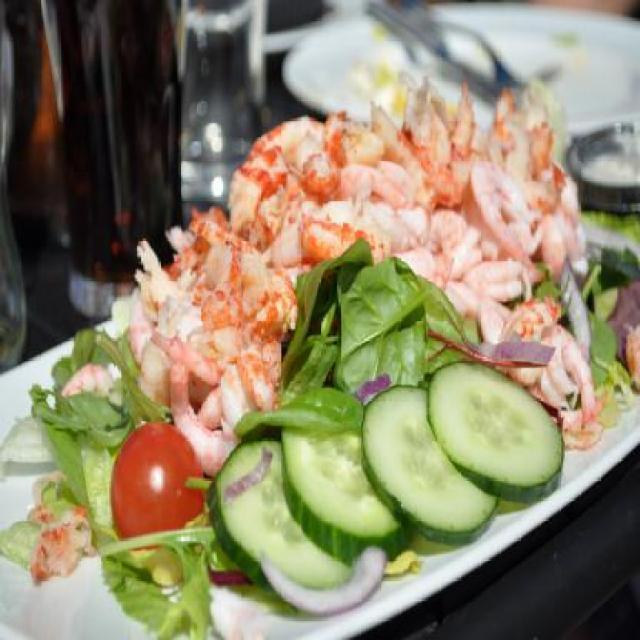Tomato: (106, 428, 208, 538)
